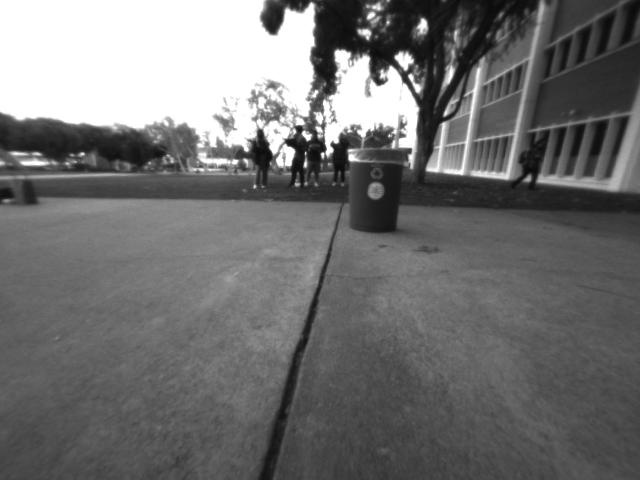trashcan_open: (343, 146, 404, 235)
